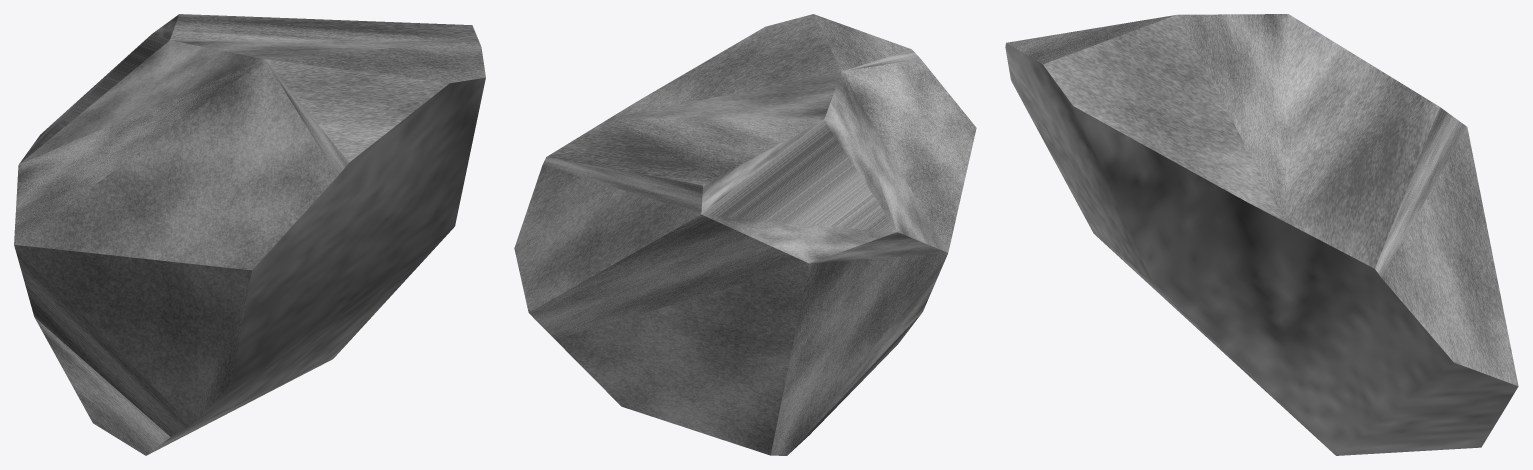
The model's file is body_cell_031.fbx.
3 views of the same model, side by side, from view 1: azimuth 30°, elevation 25°; view 2: azimuth 150°, elevation 25°; view 3: azimuth 270°, elevation 25° (orthographic). The views are drawn at different scales.
Visible parts, largest first — view 1: body_cell.031; view 2: body_cell.031; view 3: body_cell.031.
Part boxes in pixels (x1,y1,x2,y2): body_cell.031: [14, 14, 485, 455]; body_cell.031: [514, 14, 976, 455]; body_cell.031: [1005, 14, 1518, 455].
Size of the model in its own units: 45.34 by 37.6 by 41.89.
